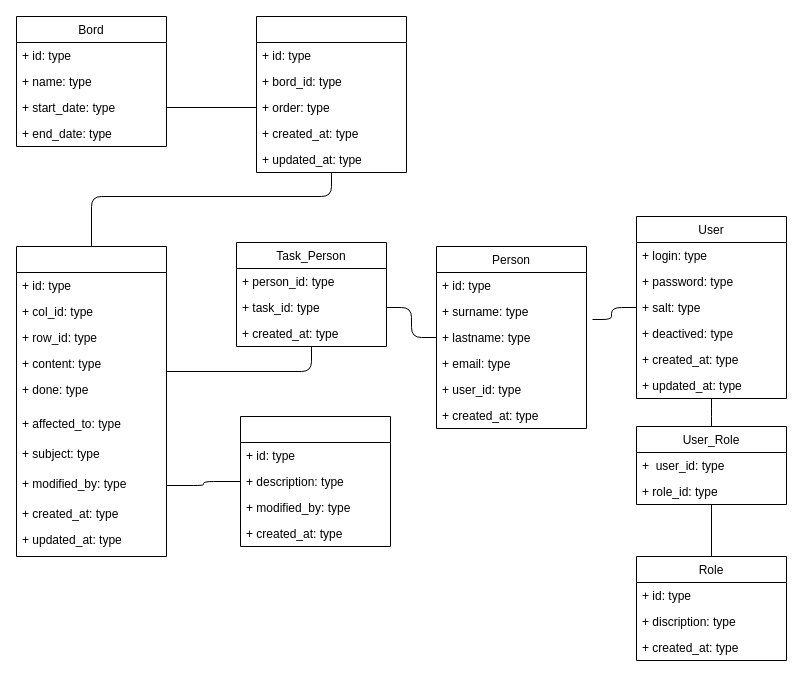
This 803x677 diagram has some shape labels left out. The shapes that lost their labels are listed below. From the top down, each one's box as (x1, y1, x2, y2) in pixels, then its label:
(256, 16, 406, 172): Colonne
(16, 246, 166, 556): Task
(240, 416, 390, 546): logTask
